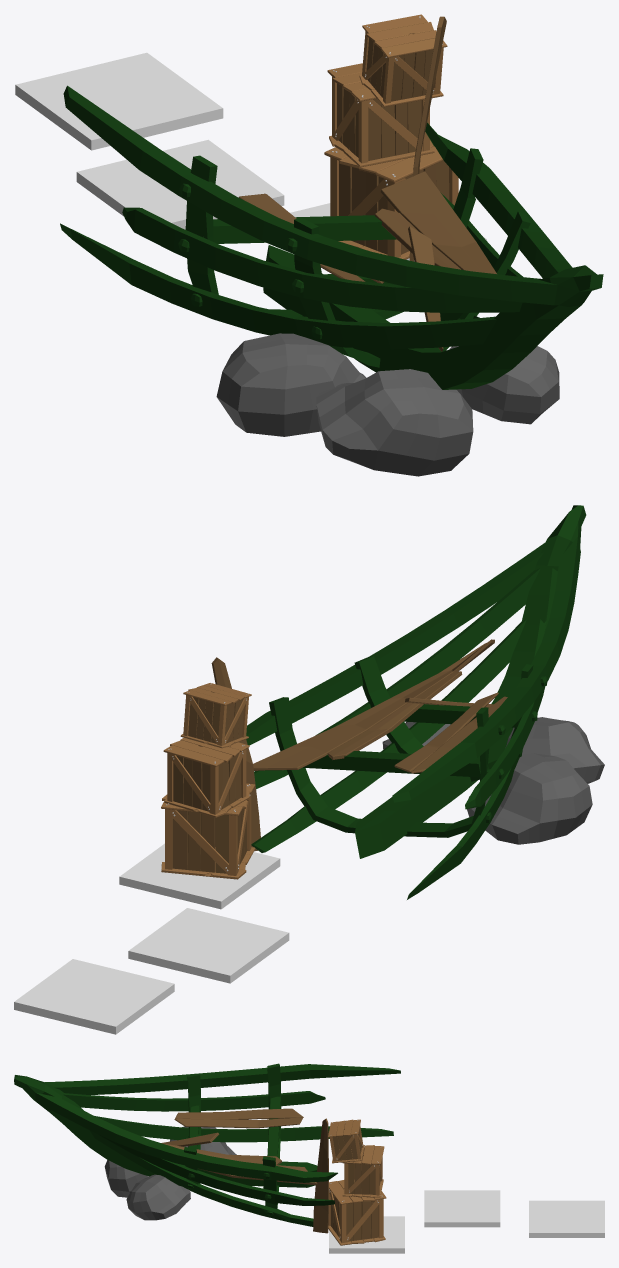
Rendered from Hanoi.fbx.
3 renders of one model, top to bottom at view 1: azimuth 30°, elevation 25°; view 2: azimuth 150°, elevation 25°; view 3: azimuth 270°, elevation 25°, orthographic. The views are drawn at different scales.
Parts seen in each view (by area): view 1: Relitto barca, Sassi, Piattaforma3, Cassa media, Piattaforma2, Cassa piccola, Cassa grande; view 2: Relitto barca, Sassi, Piattaforma2, Piattaforma3, Cassa grande, Cassa media, Piattaforma1, Cassa piccola; view 3: Relitto barca, Sassi, Piattaforma2, Piattaforma3, Cassa grande, Cassa media, Piattaforma1, Cassa piccola.
Boxes of the visible parts, x1,y1,x2,y2 form: Relitto barca: (60,16,603,389); Sassi: (216,333,559,476); Piattaforma3: (15,52,223,150); Cassa media: (327,63,434,167); Piattaforma2: (76,139,284,229); Cassa piccola: (359,14,447,107); Cassa grande: (324,140,458,259); Relitto barca: (211,505,586,899); Sassi: (382,717,604,844); Piattaforma2: (128,908,289,983); Piattaforma3: (14,959,174,1034); Cassa grande: (161,783,255,879); Cassa media: (163,737,249,817); Piattaforma1: (119,843,280,909); Cassa piccola: (180,683,251,748); Relitto barca: (14,1063,400,1233); Sassi: (104,1126,236,1220); Piattaforma2: (424,1190,500,1227); Piattaforma3: (529,1200,604,1237); Cassa grande: (328,1180,386,1245); Cassa media: (342,1145,384,1197); Piattaforma1: (329,1216,404,1253); Cassa piccola: (328,1119,364,1163).
Size of the model in its own units: 401 by 259 by 1048.
